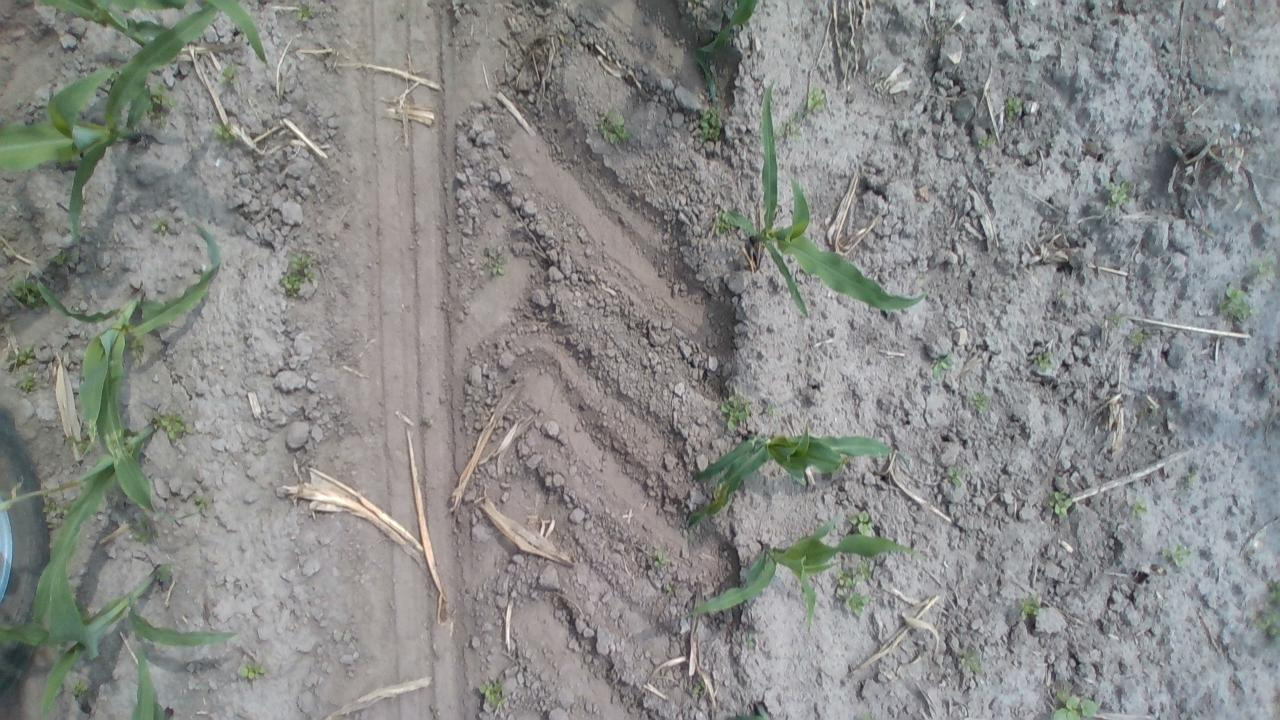Maize: (0, 219, 222, 518), (0, 0, 229, 253), (717, 75, 934, 322), (0, 416, 163, 655), (0, 565, 242, 720), (679, 510, 930, 630), (682, 422, 892, 528), (44, 0, 272, 76), (691, 0, 761, 104), (716, 699, 782, 720)
Weeds: (0, 344, 47, 400), (834, 562, 873, 620), (1248, 576, 1280, 638), (1046, 689, 1106, 720), (282, 250, 322, 294), (144, 82, 178, 132), (718, 388, 754, 434), (1214, 286, 1253, 326), (692, 104, 726, 147), (594, 114, 632, 150), (132, 513, 166, 549), (476, 675, 509, 712), (11, 273, 44, 308), (481, 246, 514, 281), (1044, 488, 1078, 520), (955, 644, 987, 678), (928, 350, 962, 382), (846, 510, 884, 538), (1104, 179, 1136, 212), (774, 119, 812, 146), (1252, 252, 1280, 287), (152, 412, 184, 442), (1026, 344, 1060, 372), (288, 1, 326, 26), (233, 658, 271, 682), (1160, 542, 1192, 570), (962, 388, 991, 418), (711, 205, 738, 236), (64, 431, 97, 456), (212, 120, 241, 148), (802, 85, 829, 115), (1016, 590, 1042, 620), (46, 246, 76, 272), (69, 678, 99, 703), (944, 463, 968, 491), (1124, 494, 1148, 521), (1002, 92, 1023, 122), (218, 62, 240, 90), (189, 491, 213, 516), (1124, 326, 1150, 349), (760, 398, 785, 419), (1103, 307, 1123, 333), (650, 548, 671, 572), (973, 134, 999, 153), (153, 562, 174, 583), (40, 498, 69, 513), (743, 634, 760, 654), (152, 212, 168, 232), (860, 710, 880, 720)
